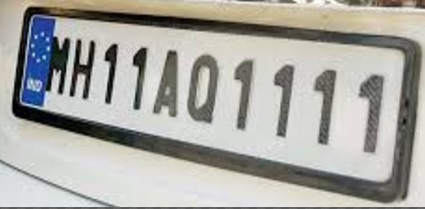number_plate: (11, 4, 424, 201)
